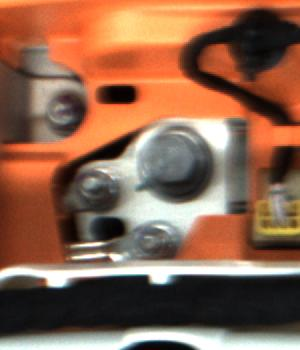nut_b: (131, 116, 214, 212)
screw_s: (41, 88, 83, 134), (76, 165, 120, 208), (133, 221, 173, 258)
